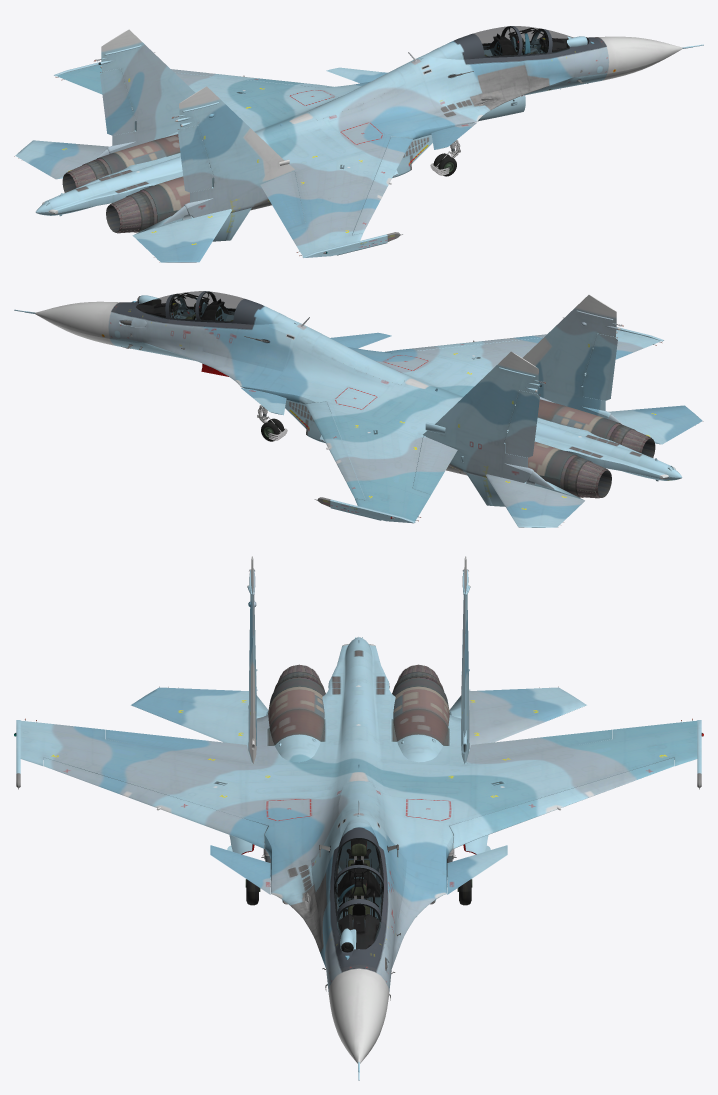
3 views of the same model, one above another, from view 1: azimuth 30°, elevation 25°; view 2: azimuth 150°, elevation 25°; view 3: azimuth 270°, elevation 25° (orthographic). The views are drawn at different scales.
Parts seen in each view (by area): view 1: Object_8, Object_2, Object_3, Object_9; view 2: Object_8, Object_2, Object_3, Object_9; view 3: Object_8, Object_2, Object_3, Object_9.
Part boxes in pixels (x1=…): Object_8: x1=14, y1=26, x2=703, y2=262; Object_2: x1=473, y1=26, x2=573, y2=56; Object_3: x1=482, y1=26, x2=569, y2=56; Object_9: x1=393, y1=95, x2=525, y2=176; Object_8: x1=14, y1=291, x2=703, y2=527; Object_2: x1=136, y1=291, x2=244, y2=321; Object_3: x1=136, y1=291, x2=235, y2=321; Object_9: x1=201, y1=363, x2=324, y2=441; Object_8: x1=14, y1=556, x2=703, y2=1080; Object_2: x1=334, y1=838, x2=383, y2=948; Object_3: x1=334, y1=838, x2=383, y2=949; Object_9: x1=227, y1=835, x2=490, y2=905.
Size of the model in its own units: 226 by 63.4 by 148.
7 materials, 3 textured.
